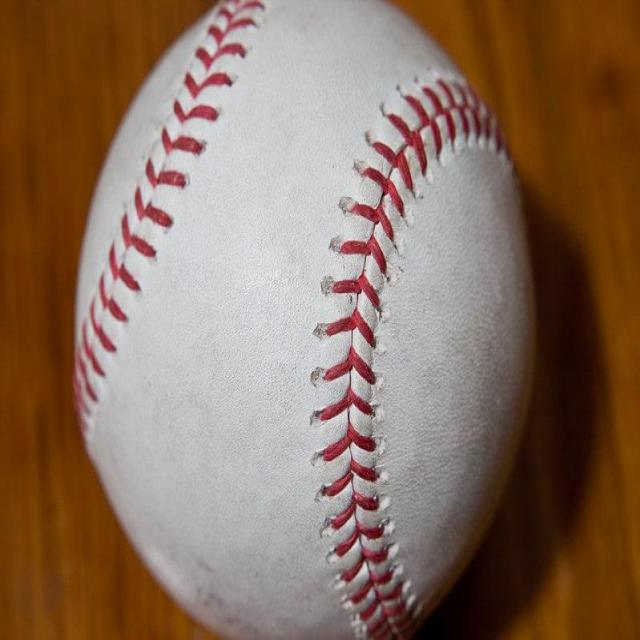baseball: (74, 7, 535, 630)
